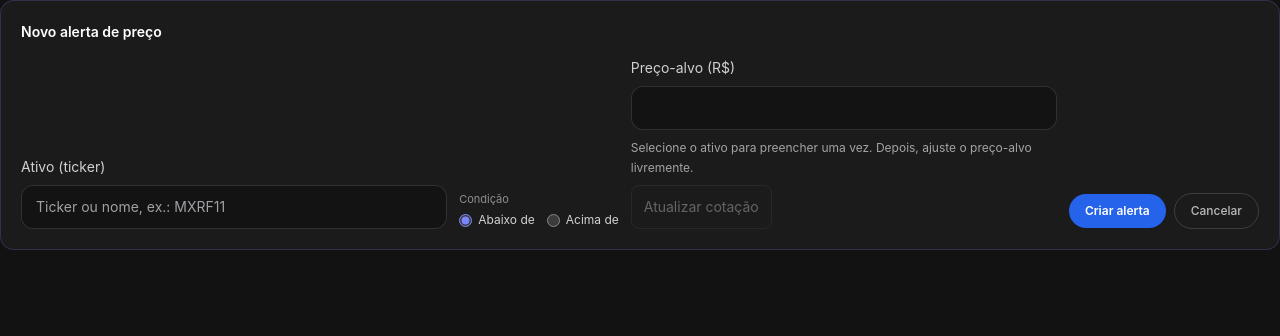
Test: seleciona pelo teclado sem enviar o formulário
Type "MX" into the dropdown at (234, 207), box 21,185 -> 447,229
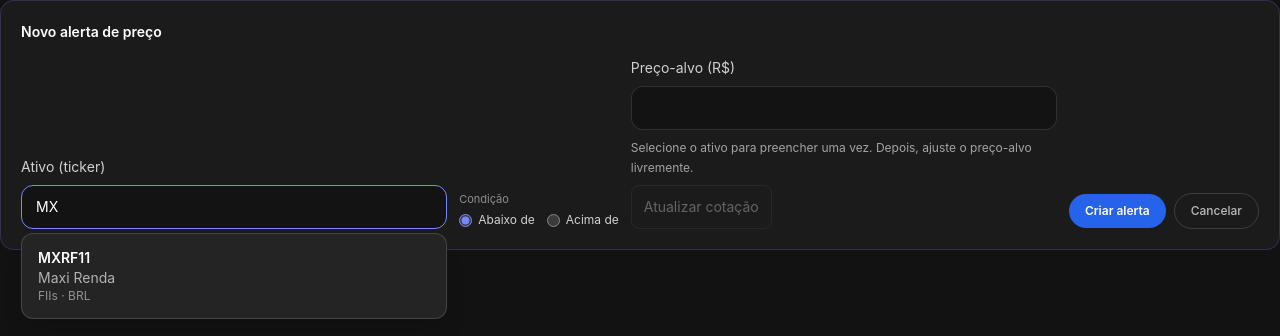
expect the option "MXRF11 Maxi Renda FIIs · BRL" is shown: met, box 38,249 -> 115,303
Press Arrowdown Enter
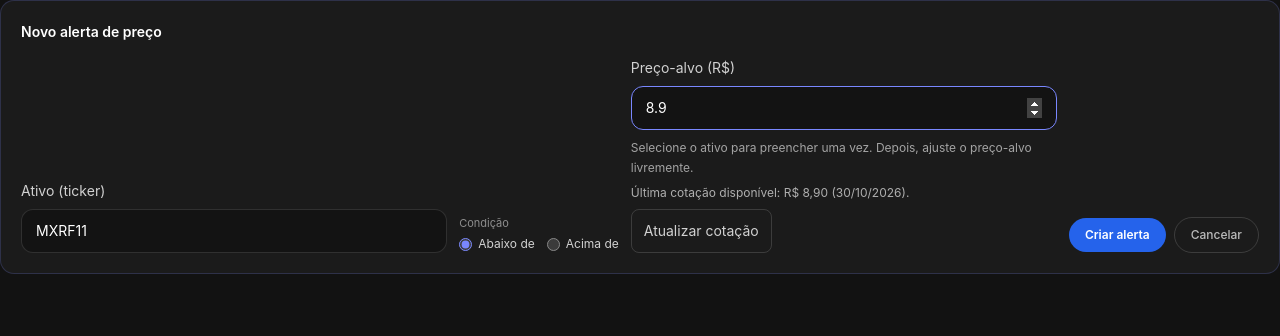
expect the number field holds "8.9": met, box 631,86 -> 1057,130
